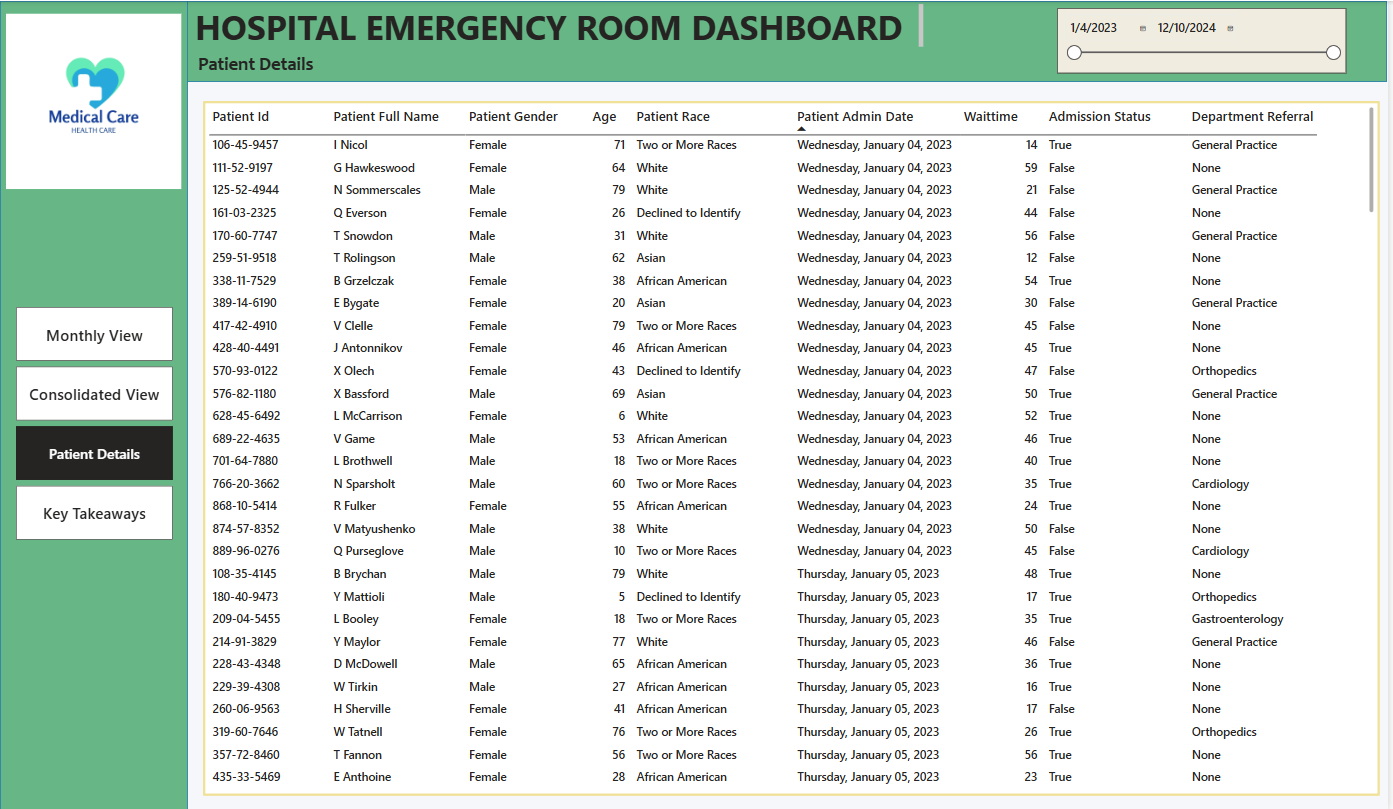

The page's visual inventory and layout, read from the dashboard file:
{"tool":"powerbi","page":{"name":"Patient Details","canvas":[2400,1400],"ordinal":2},"visuals":[{"type":"shape","box":[307.7,0,2089.6,140],"z":0},{"type":"textbox","box":[331.9,0,1269.3,85.7],"z":1000},{"type":"textbox","box":[337.4,83.9,299.1,56.5],"z":2000},{"type":"slicer","fields":{"Values":["Date Table.Date"]},"box":[1827.4,12.8,499.7,113.1],"z":3000},{"type":"shape","box":[0,0,324.6,1400.6],"z":4000},{"type":"image","box":[10.9,0,302.7,346.5],"z":5000},{"type":"tableEx","fields":{"Values":["Hospital ER_Data.Patient Id","Hospital ER_Data.Patient Full Name","Hospital ER_Data.Patient Gender","Sum(Hospital ER_Data.Patient Age)","Hospital ER_Data.Patient Race","Hospital ER_Data.Patient Admin Date","Sum(Hospital ER_Data.Patient Waittime)","Hospital ER_Data.Patient Admission Flag","Hospital ER_Data.Department Referral"]},"box":[350.9,172.8,2034.3,1201.2],"z":6000},{"type":"pageNavigator","box":[27.7,528.9,271.4,402.7],"z":7000}]}

Visuals, with their boxes in screenshot pixels (x1, y1, x2, y2), scaled from the page's 2400x1400 canvas onto the 1393x809 screenshot:
shape: <bbox>179, 0, 1391, 81</bbox>
textbox: <bbox>193, 0, 929, 50</bbox>
textbox: <bbox>196, 48, 369, 81</bbox>
slicer - Date Table.Date: <bbox>1061, 7, 1351, 73</bbox>
shape: <bbox>0, 0, 188, 808</bbox>
image: <bbox>6, 0, 182, 200</bbox>
tableEx - Hospital ER_Data.Patient Id x Hospital ER_Data.Patient Full Name: <bbox>204, 100, 1384, 794</bbox>
pageNavigator: <bbox>16, 306, 174, 538</bbox>
